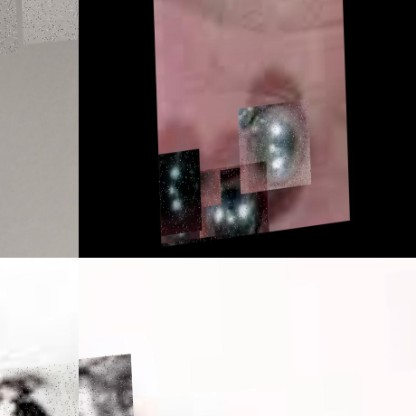ironball: (236, 104, 309, 198), (197, 166, 266, 245), (0, 367, 78, 415), (156, 151, 199, 237), (78, 354, 133, 415), (20, 0, 78, 50)
